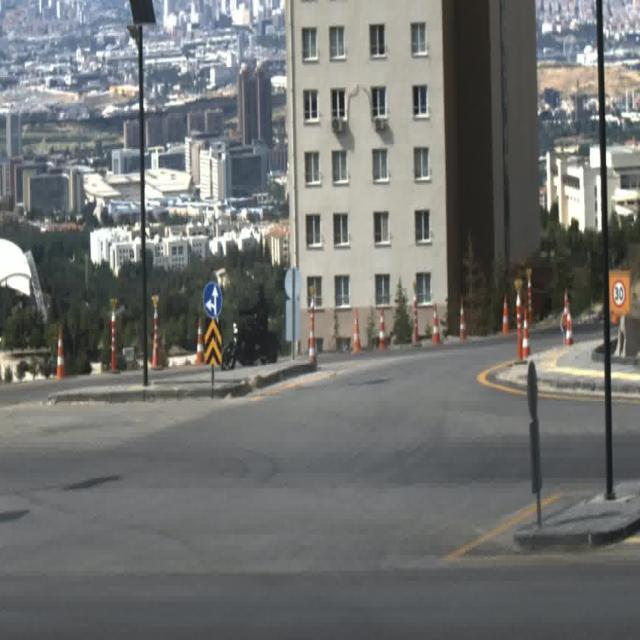Motorcycle: (223, 283, 279, 367)
